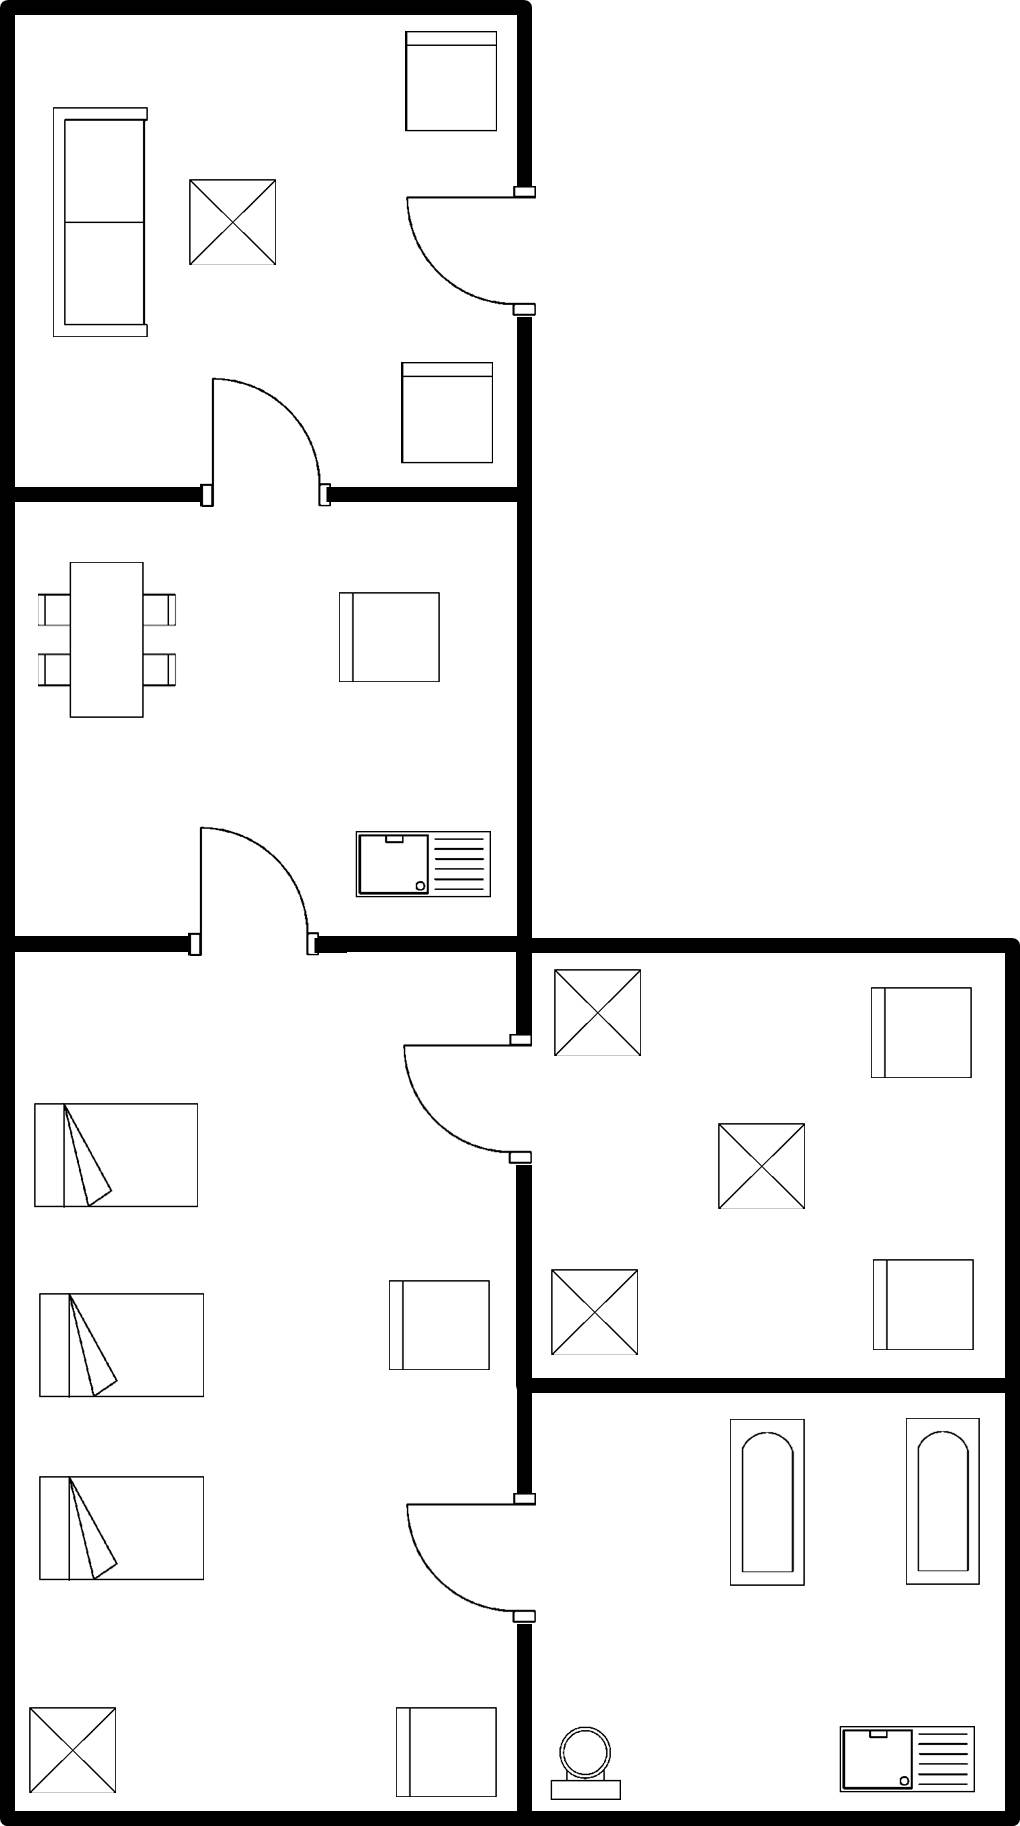bed: (23, 1093, 214, 1223), (28, 1466, 216, 1591), (27, 1284, 210, 1409)
coffee_table: (180, 170, 293, 279), (21, 1696, 130, 1800), (543, 961, 652, 1064), (705, 1116, 814, 1218), (543, 1262, 650, 1364)
dining_table: (27, 552, 193, 732)
large_sink: (544, 1721, 630, 1811)
large_sofa: (41, 91, 162, 353)
sink: (828, 1714, 989, 1805), (344, 821, 500, 912)
small_sofa: (855, 977, 985, 1095), (389, 350, 503, 478), (394, 20, 505, 150), (327, 579, 448, 695), (862, 1248, 984, 1362)
tub: (710, 1409, 818, 1598), (894, 1411, 996, 1595)
